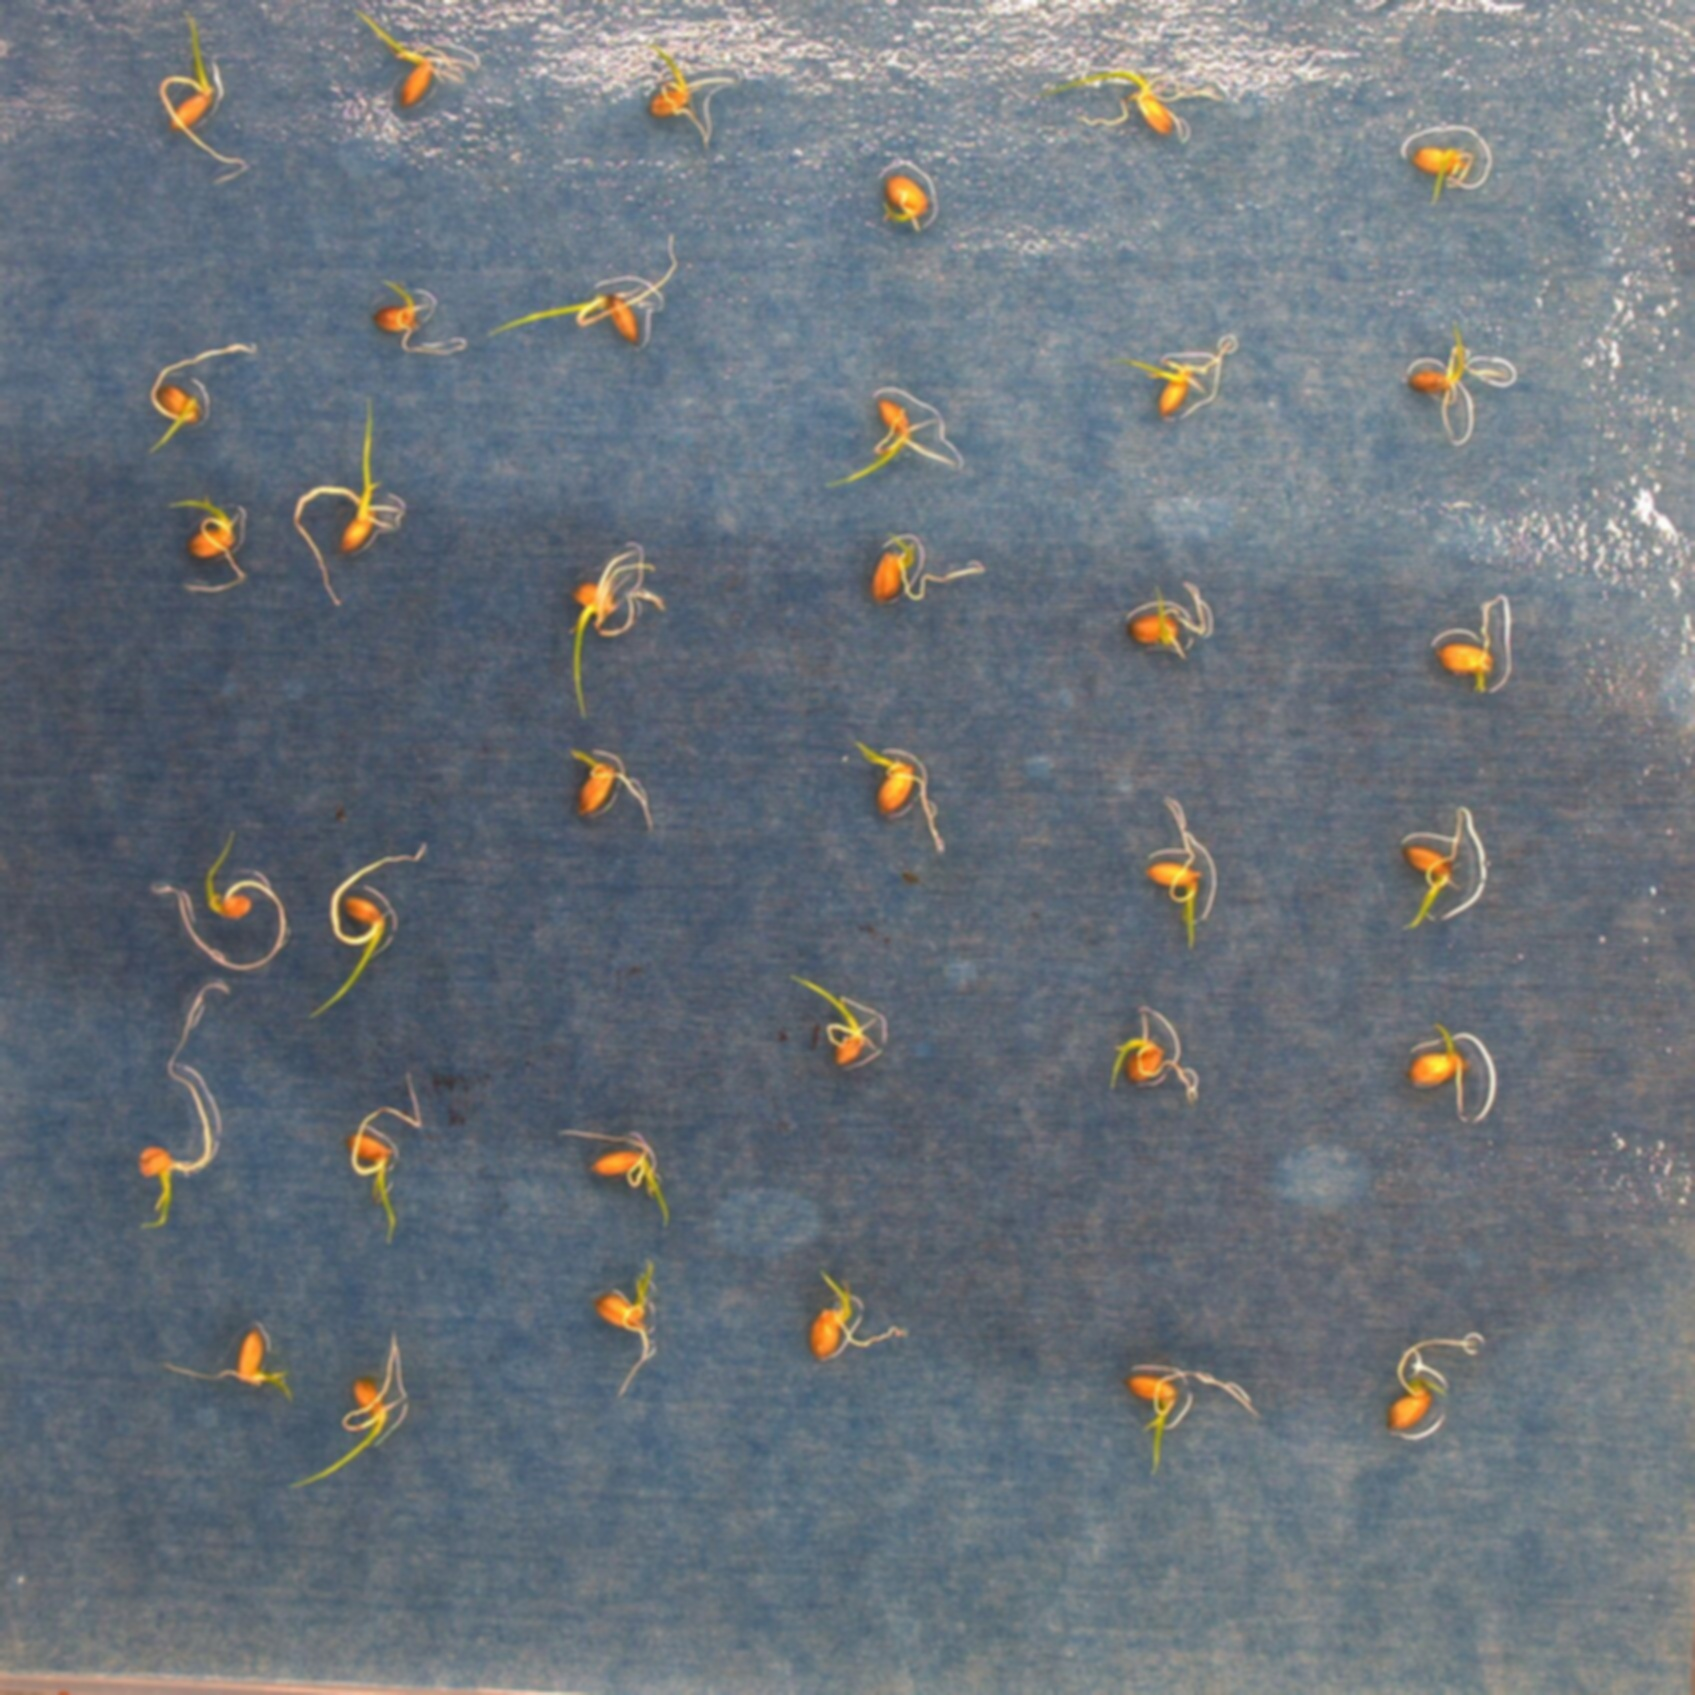not sprout: (1434, 594, 1496, 692)
sprout: (292, 394, 407, 608), (137, 979, 228, 1232), (486, 233, 678, 345), (310, 840, 425, 1018), (147, 830, 287, 975), (289, 1330, 411, 1492), (570, 539, 666, 719), (158, 8, 251, 186), (1128, 1366, 1260, 1481), (824, 383, 965, 490), (345, 1071, 425, 1246), (354, 8, 483, 110), (1406, 317, 1513, 439), (147, 341, 261, 456), (1042, 68, 1225, 137), (557, 1127, 671, 1237), (160, 1318, 298, 1403), (1400, 804, 1492, 931), (1104, 334, 1236, 421), (851, 733, 945, 854), (641, 39, 737, 147), (1144, 795, 1208, 948), (789, 972, 888, 1068), (1406, 1024, 1499, 1125), (1108, 1001, 1200, 1104), (594, 1257, 660, 1399), (1385, 1336, 1478, 1433), (810, 1270, 910, 1360), (869, 532, 986, 605), (168, 492, 250, 594), (373, 275, 469, 357), (571, 745, 658, 832), (1128, 581, 1208, 658), (1412, 144, 1475, 205), (883, 172, 930, 233)
